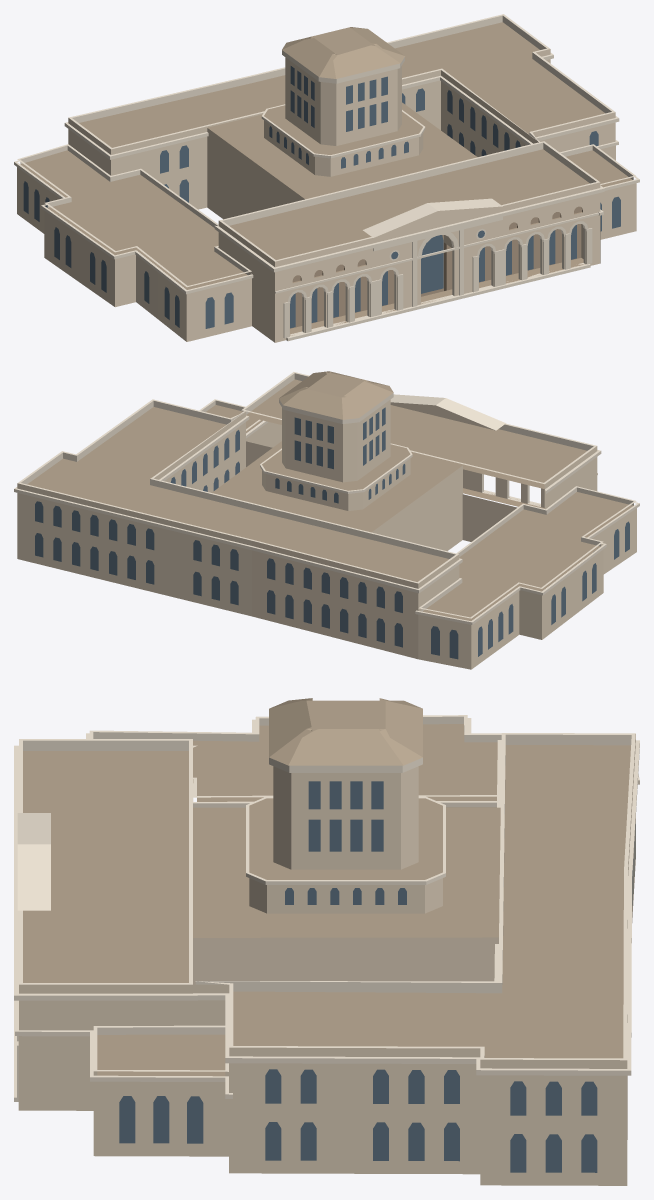
Rendered from yerevan-history-museum.glb.
3 views of the same model, one above another, from view 1: azimuth 30°, elevation 25°; view 2: azimuth 150°, elevation 25°; view 3: azimuth 270°, elevation 25° (orthographic). The views are drawn at different scales.
Parts seen in each view (by area): view 1: History Museum of Armenia; view 2: History Museum of Armenia; view 3: History Museum of Armenia.
Boxes of the visible parts, bbox=[...] form: History Museum of Armenia: bbox=[14, 14, 639, 342]; History Museum of Armenia: bbox=[14, 371, 639, 669]; History Museum of Armenia: bbox=[14, 698, 639, 1185].
Bounding box in the file's own units: 114 × 38.5 × 77.61.
